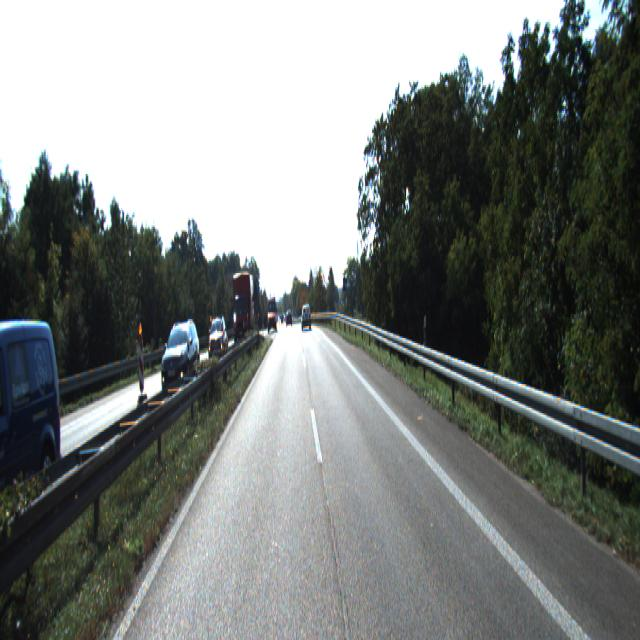Car: (160, 322, 202, 402), (207, 314, 229, 366), (302, 308, 310, 331)
DontCare: (280, 312, 293, 324)
Truck: (231, 272, 255, 349)
Van: (0, 314, 72, 539)
